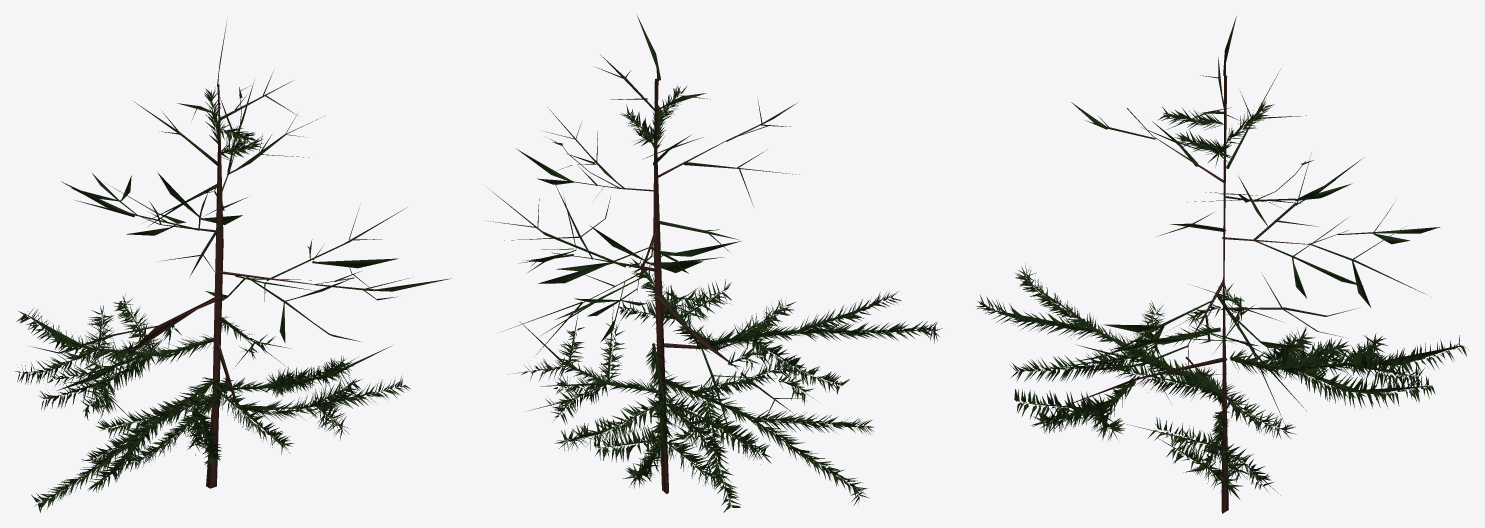
File: sapling_c_lod1.obj
The picture shows the model from 3 angles, left to right: view 1: azimuth 30°, elevation 25°; view 2: azimuth 150°, elevation 25°; view 3: azimuth 270°, elevation 25°; orthographic projection. The views are drawn at different scales.
Visible parts, largest first — view 1: sapling_c_lod1; view 2: sapling_c_lod1; view 3: sapling_c_lod1.
Boxes of the visible parts, x1,y1,x2,y2 form: sapling_c_lod1: (15,17,450,512); sapling_c_lod1: (485,15,942,512); sapling_c_lod1: (976,16,1468,513).
Bounding box in the file's own units: 24.1 × 28.25 × 24.96.
